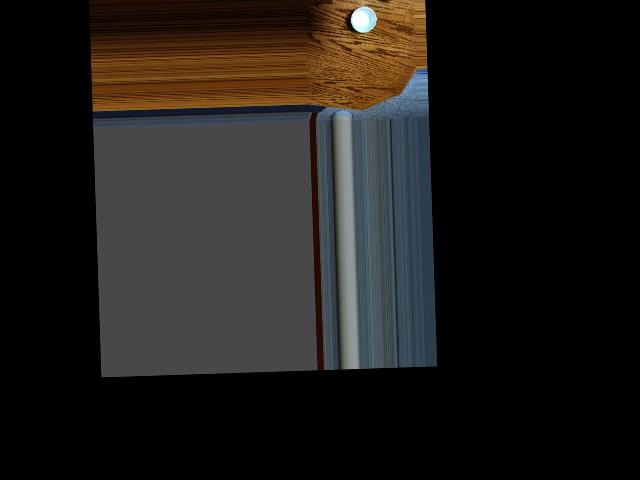cotage: (351, 0, 380, 34)
